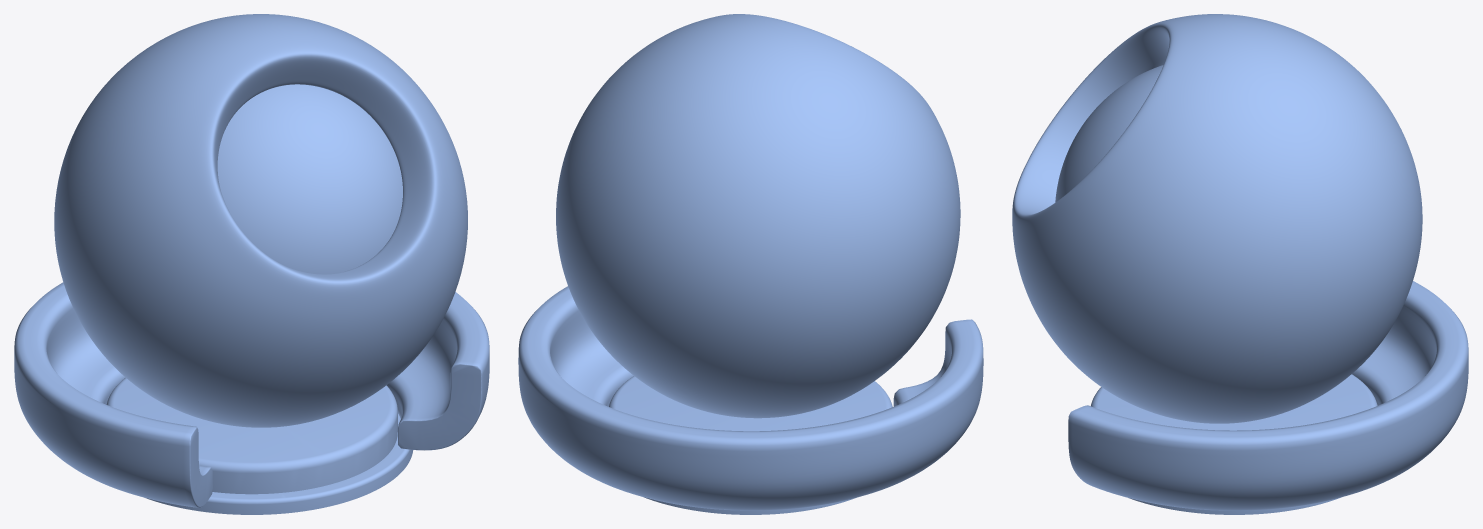
The model's file is standard_surface_plastic.mtlx.glb.
The picture shows the model from 3 angles, left to right: view 1: azimuth 30°, elevation 25°; view 2: azimuth 150°, elevation 25°; view 3: azimuth 270°, elevation 25°; orthographic projection. The views are drawn at different scales.
Parts seen in each view (by area): view 1: Preview_Mesh, Calibration_Mesh; view 2: Preview_Mesh, Calibration_Mesh; view 3: Preview_Mesh, Calibration_Mesh.
Boxes of the visible parts, box(x1,y1,x2,y2) form: Preview_Mesh: box(14, 14, 489, 507); Calibration_Mesh: box(106, 84, 413, 514); Preview_Mesh: box(518, 14, 983, 510); Calibration_Mesh: box(609, 376, 892, 514); Preview_Mesh: box(1012, 14, 1468, 510); Calibration_Mesh: box(1055, 65, 1377, 514).
Bounding box in the file's own units: 2.14 × 2.09 × 2.08.
